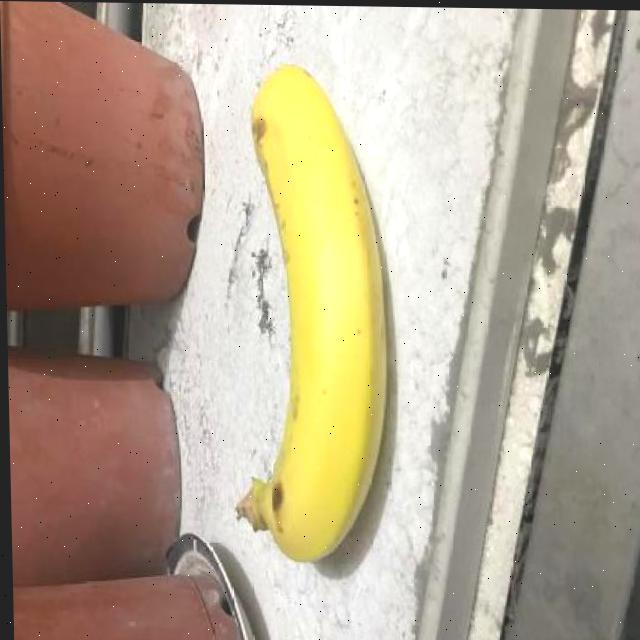banana: (219, 61, 400, 577)
